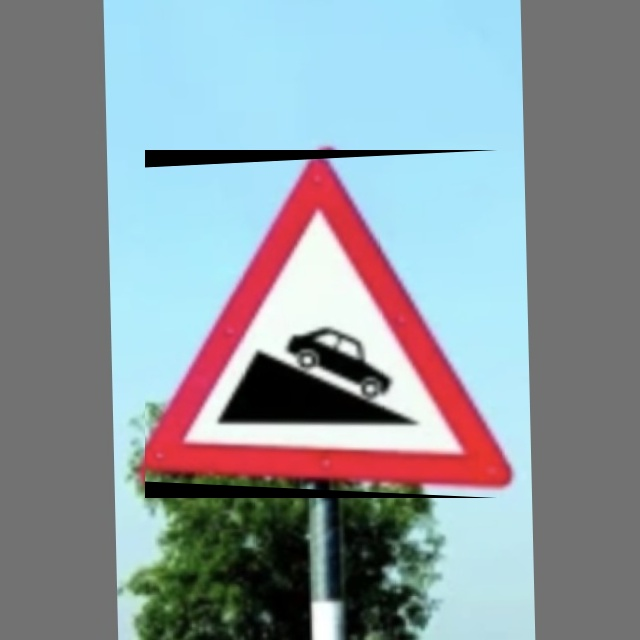Steep_Descent: (145, 150, 498, 498)
